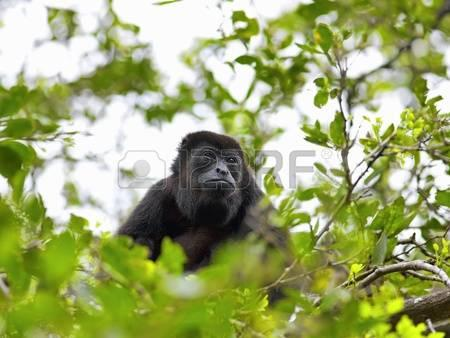monkey: (117, 131, 268, 275)
